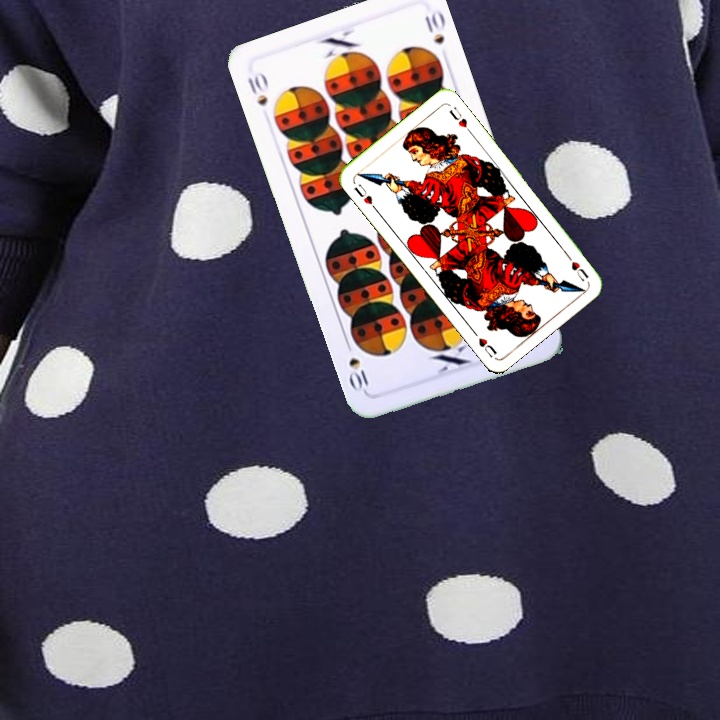HU: (562, 249, 591, 284), (350, 180, 375, 207)
S10: (243, 68, 271, 109)
